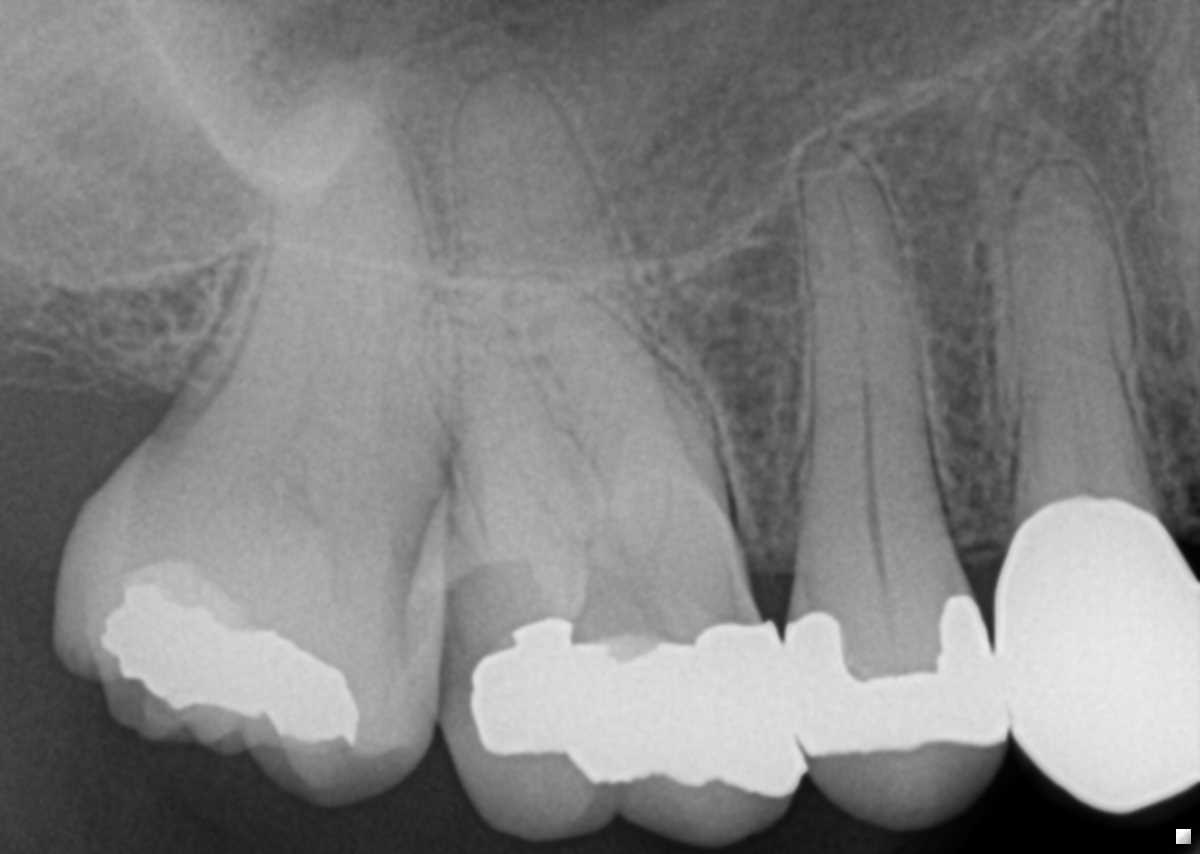Distal Root: (416, 317, 602, 550)
Main Canal: (839, 187, 884, 557), (1067, 299, 1102, 502)
Main Root: (148, 95, 445, 563), (795, 138, 945, 558), (1007, 151, 1150, 513)
Mesial Root: (510, 272, 730, 527)
Palatal Root: (451, 69, 753, 628), (448, 69, 727, 542)
decay: (436, 561, 544, 719), (577, 577, 687, 646)
